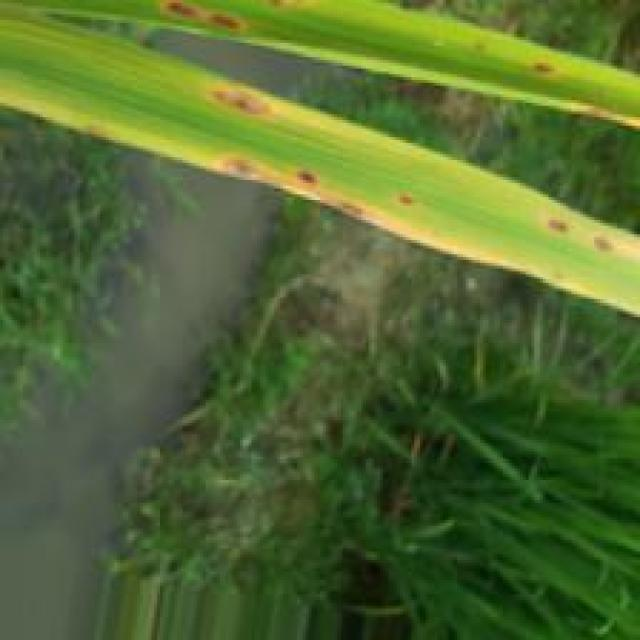Brown_Spot: (215, 152, 377, 223), (159, 1, 248, 33), (199, 88, 279, 119), (591, 230, 617, 261), (546, 220, 574, 234), (398, 193, 416, 208), (533, 63, 556, 74)
